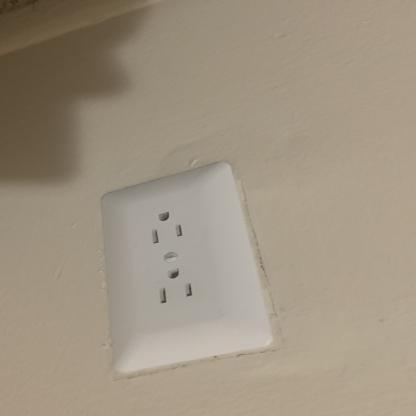OUTLET: (100, 160, 260, 376)
